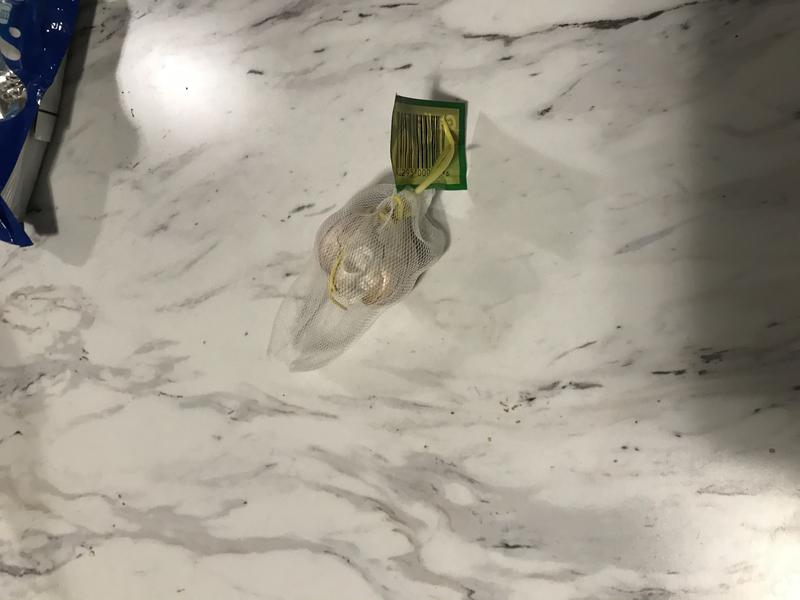garlic: (304, 197, 433, 307)
